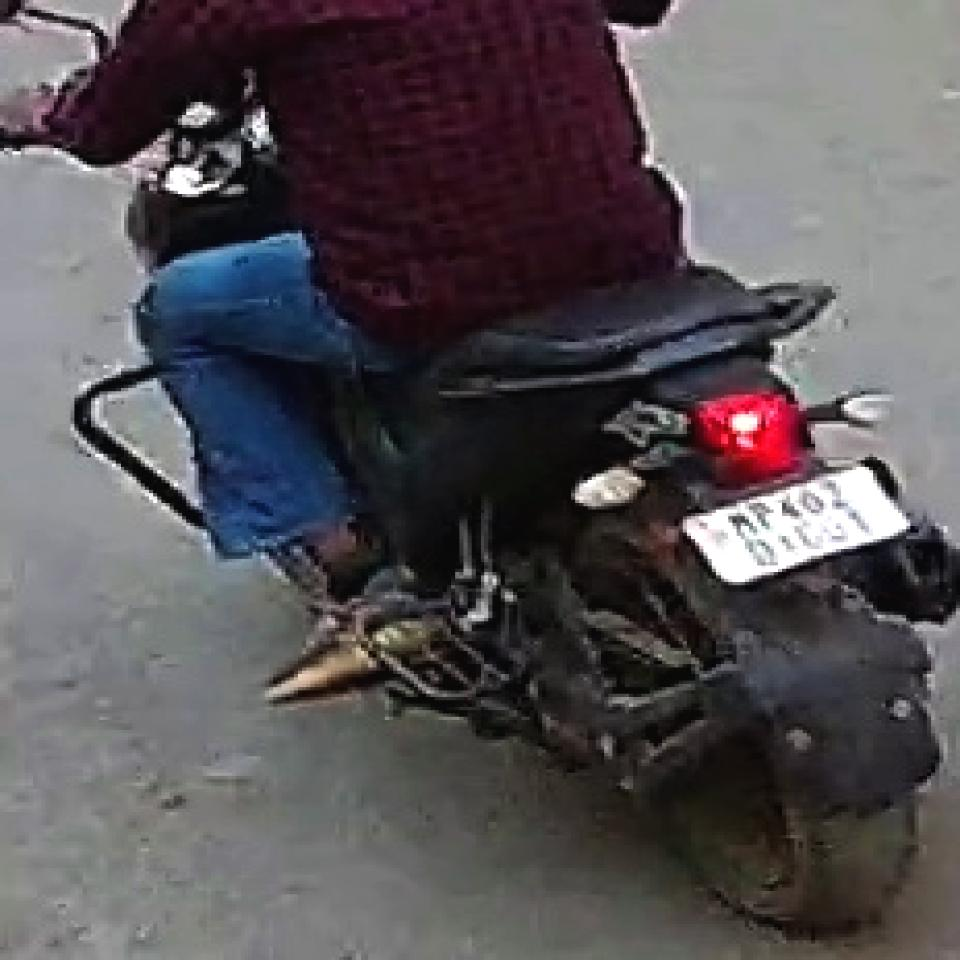tail_light: (693, 382, 799, 470)
